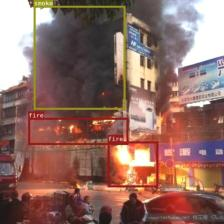fire: (28, 118, 128, 144), (107, 141, 158, 187)
smoke: (33, 5, 125, 110)
